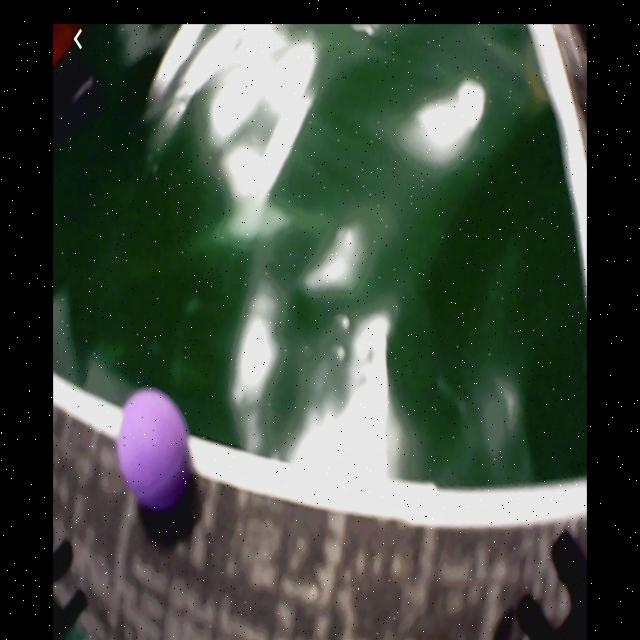ball: (117, 390, 195, 515)
